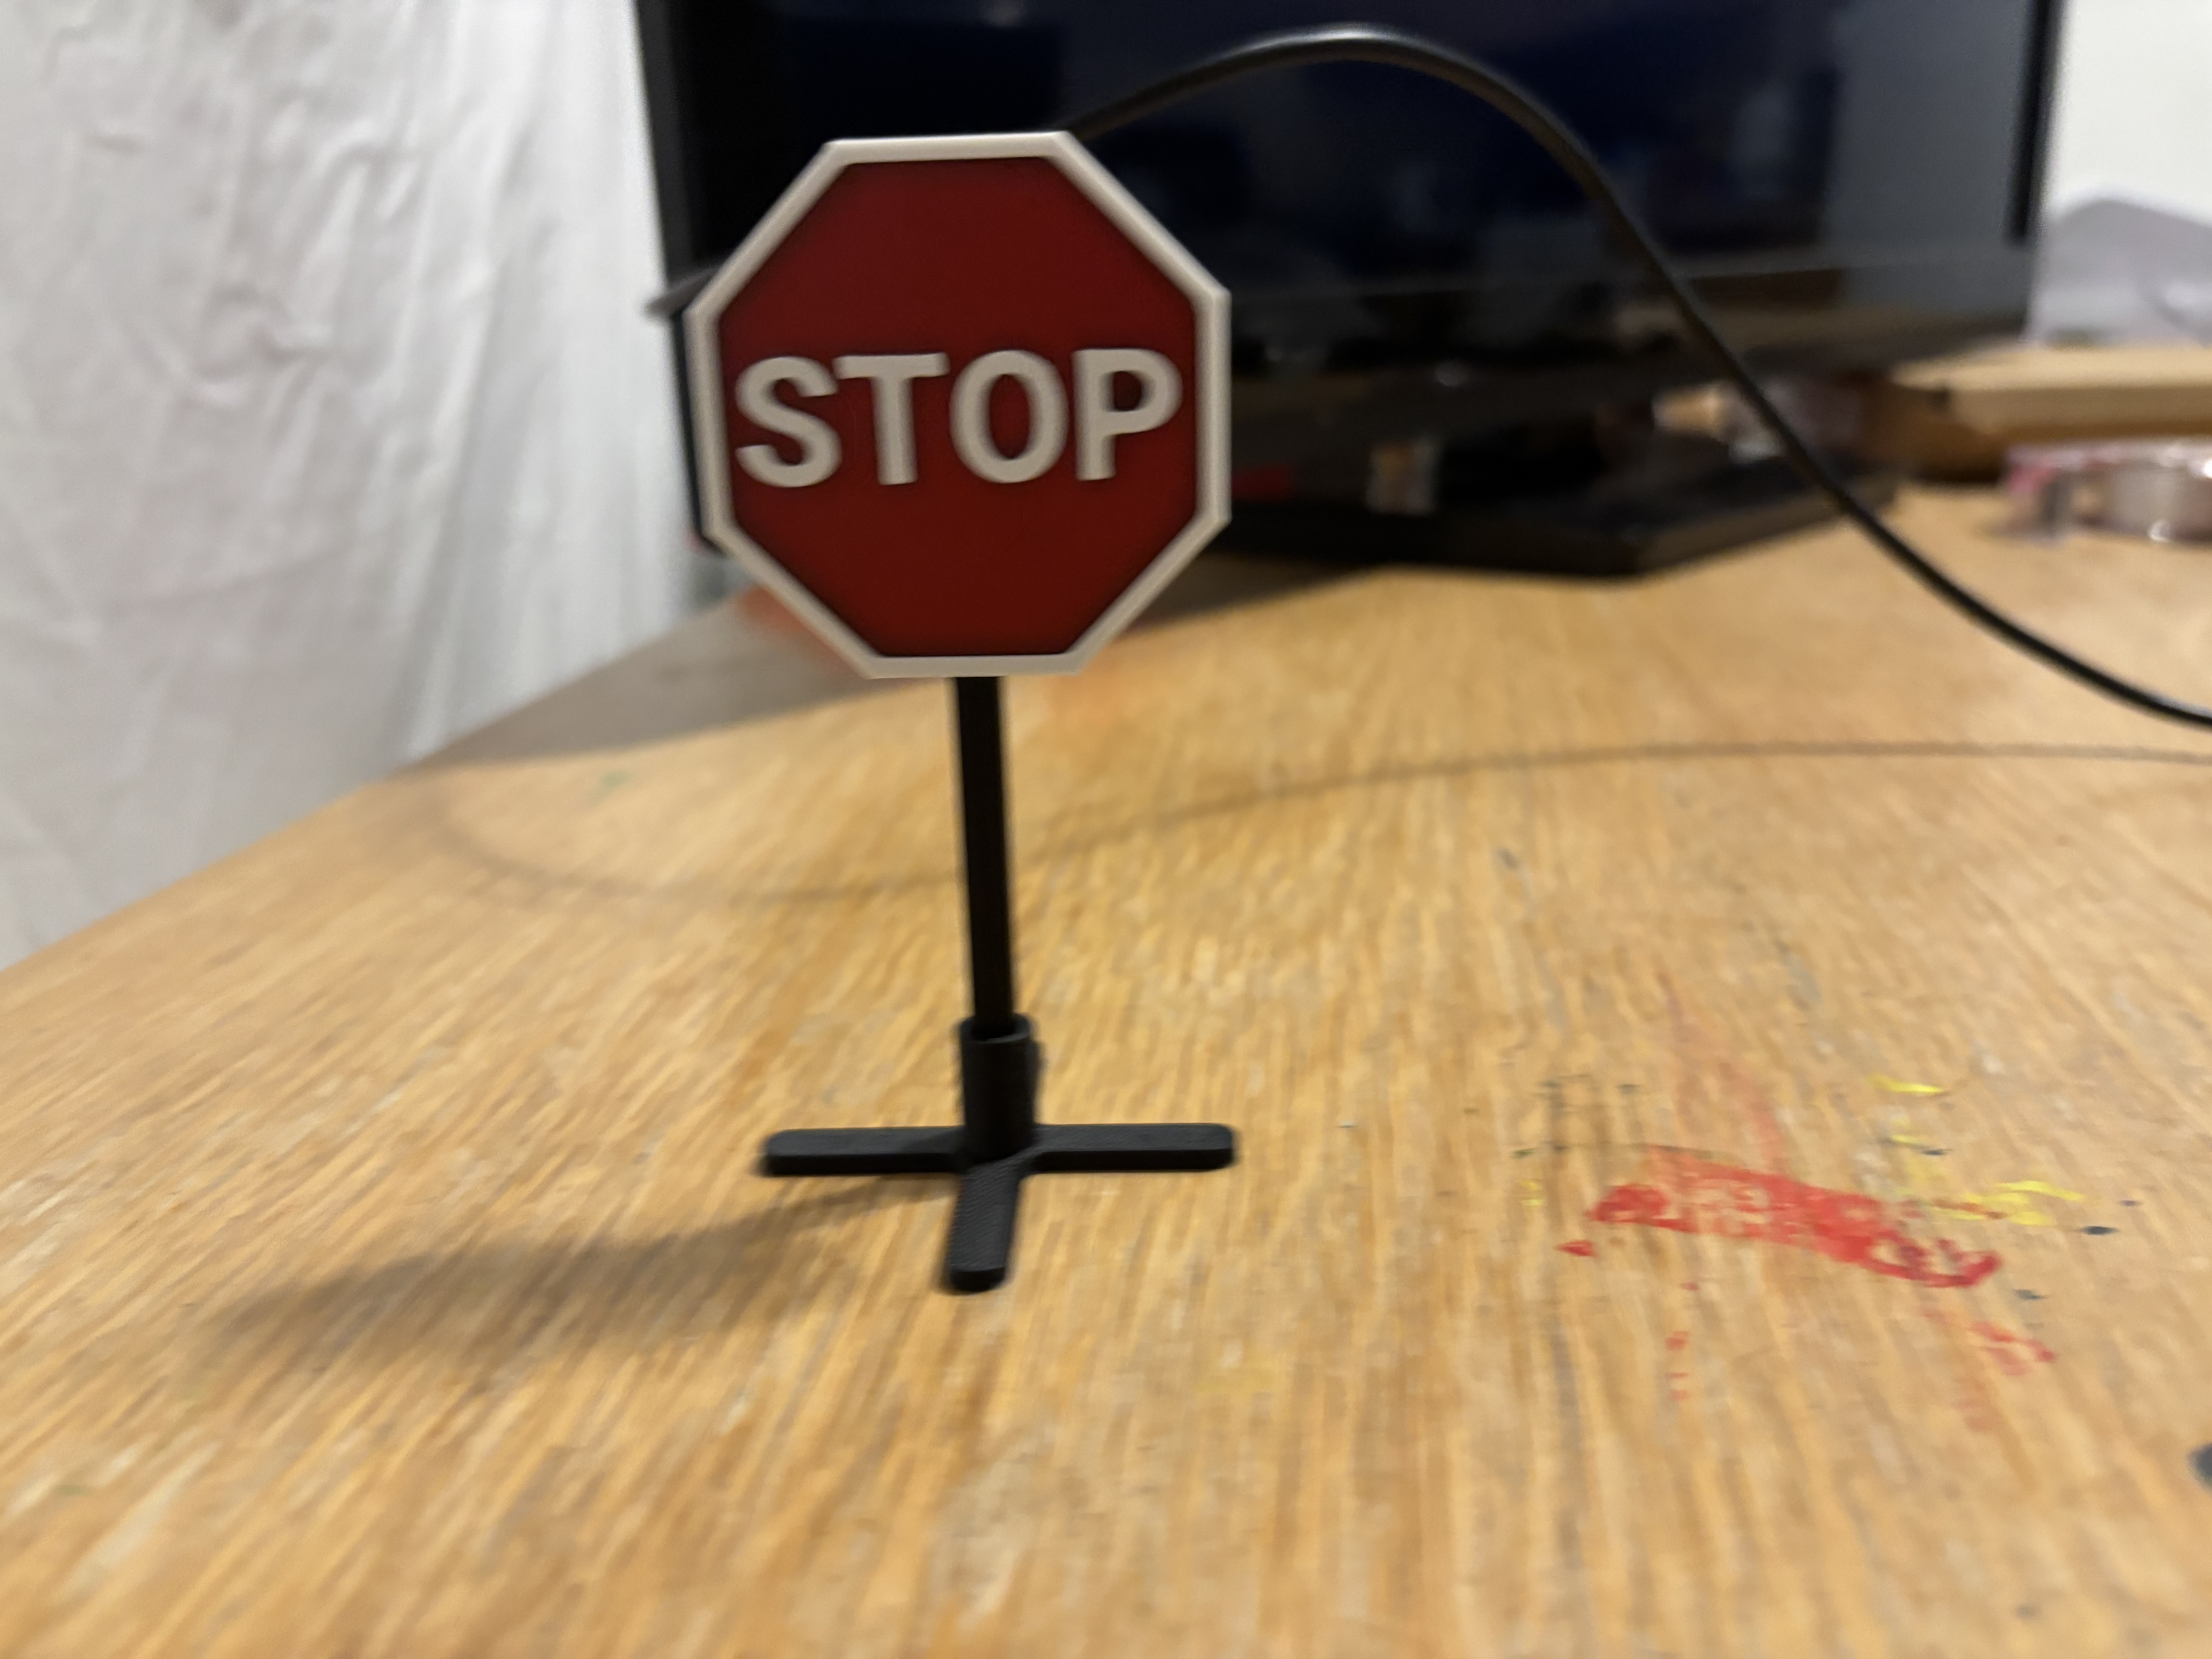sign_stop: (667, 136, 1240, 666)
